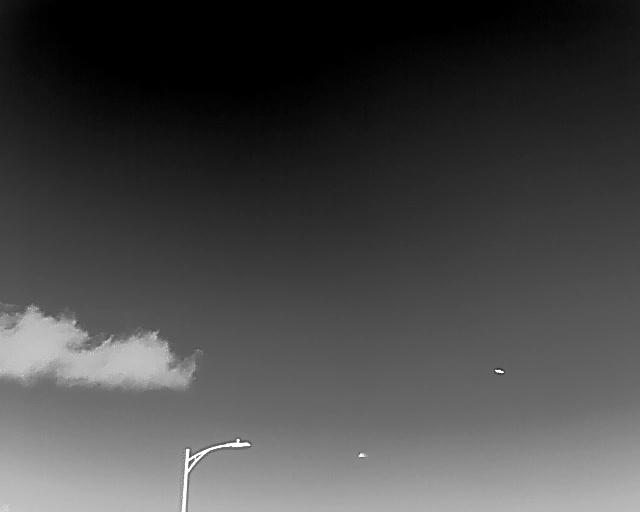fpv-drone: (494, 368, 504, 374)
